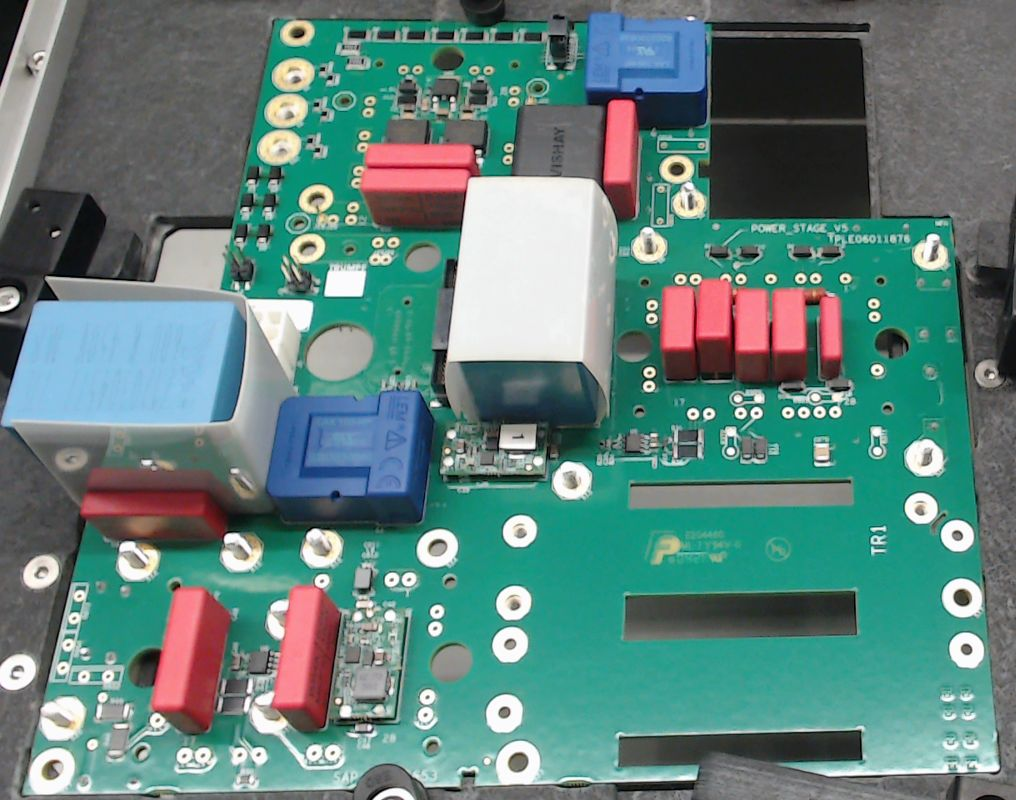comp1: (267, 390, 437, 525), (585, 14, 710, 126)
comp2: (149, 584, 226, 737), (272, 585, 343, 732), (77, 490, 232, 546), (361, 166, 472, 228), (601, 97, 641, 222), (696, 277, 735, 380), (769, 288, 807, 382), (660, 283, 696, 380), (734, 287, 770, 383), (363, 141, 477, 166), (816, 291, 845, 379)
comp3: (513, 100, 606, 180)
comp4: (1, 276, 300, 514), (443, 176, 617, 426)
